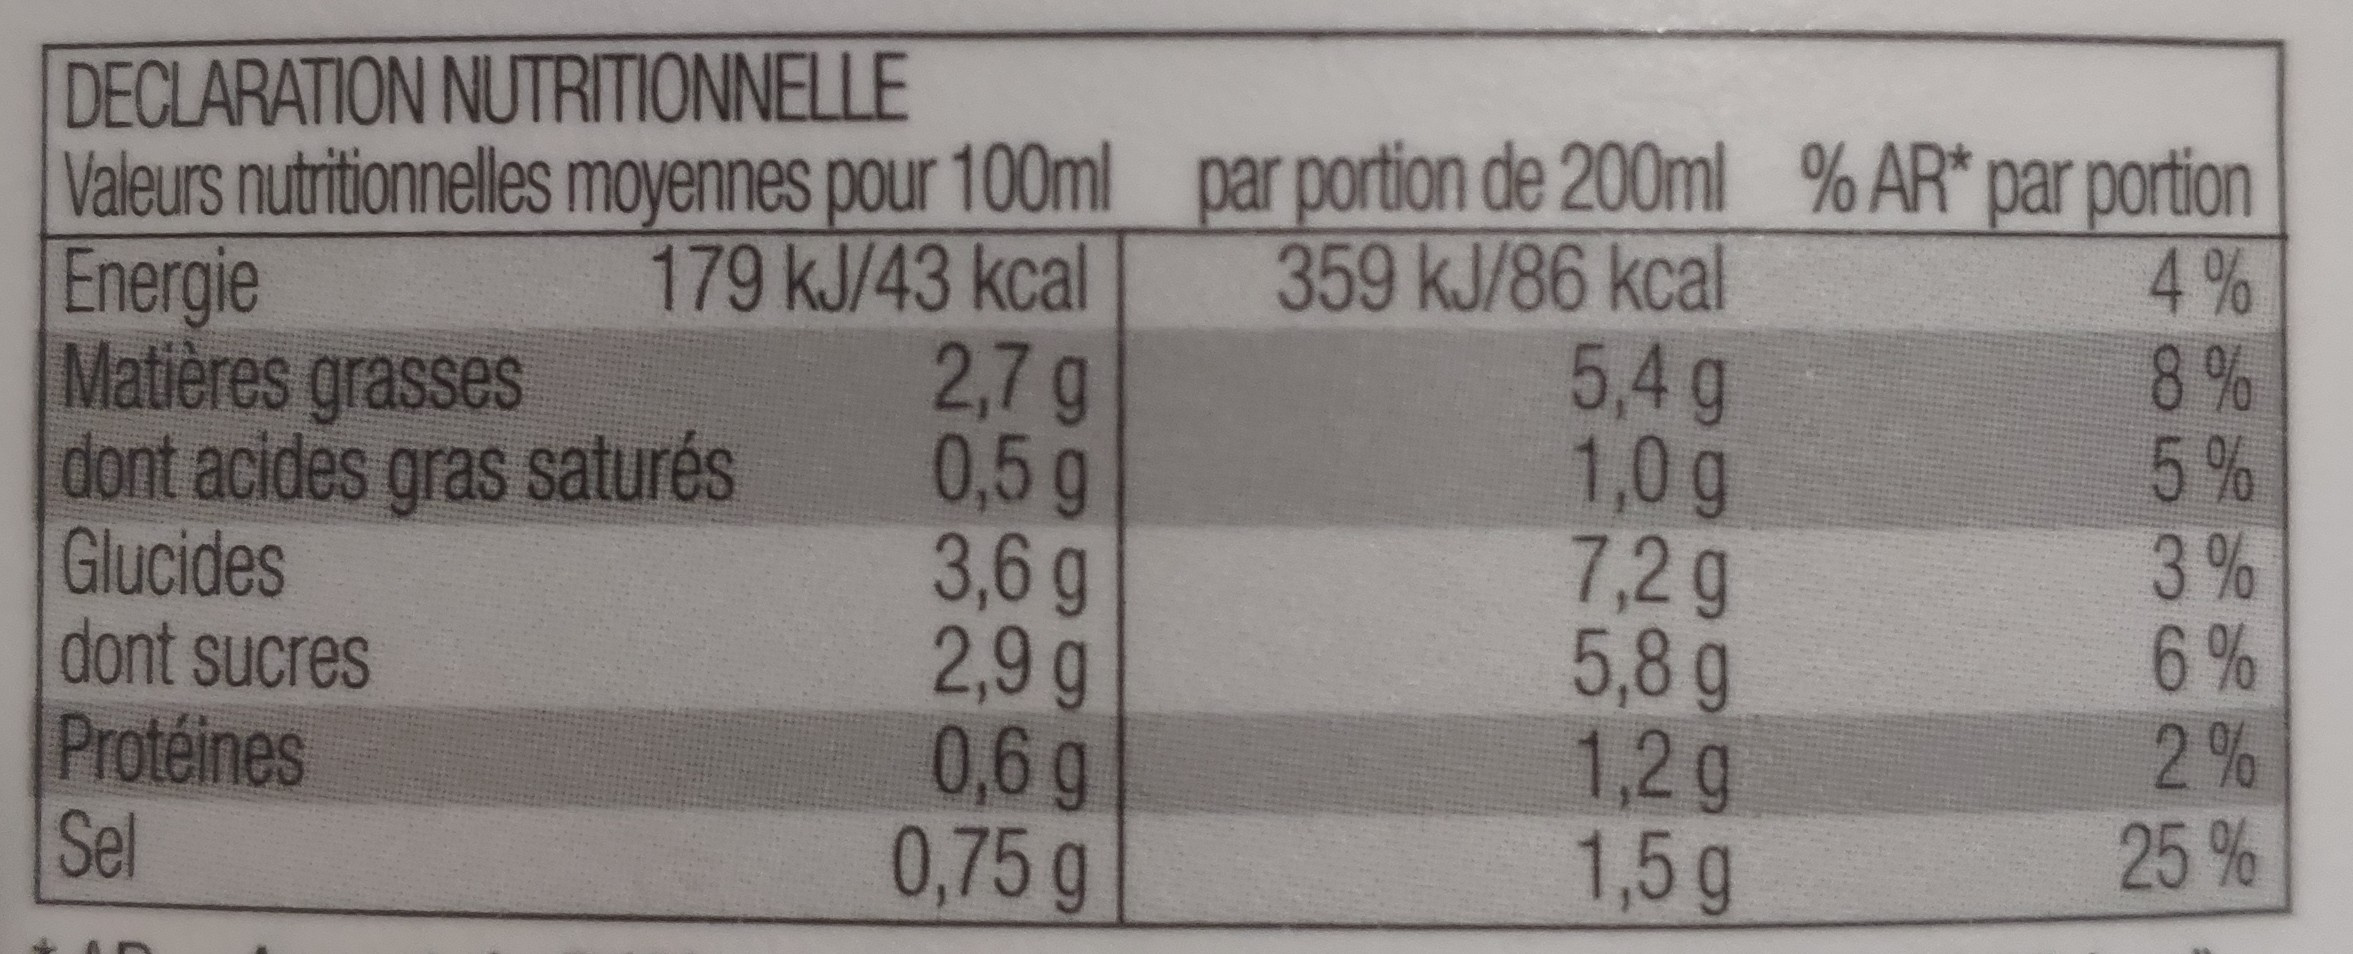column: (39, 130, 1122, 925), (1183, 130, 1754, 921), (1775, 133, 2282, 933)
table: (42, 45, 2288, 904)
